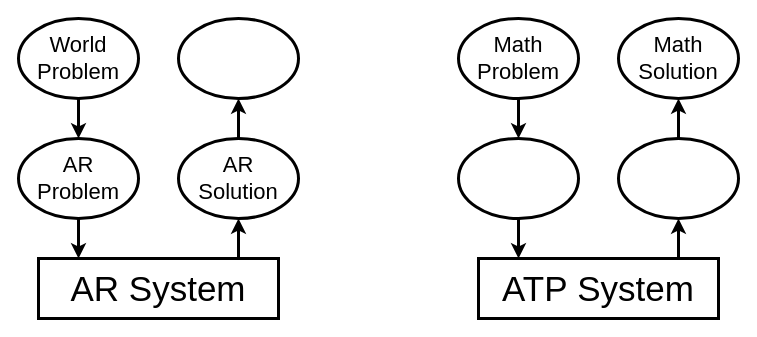
The diagram is 757 pixels wide and 337 high, and some of its shapes have lost their labels. Each missing label, with the box of its shape:
Logic Problem: (456, 136, 580, 220)
Logic Solution: (616, 136, 740, 220)
World Solution: (176, 16, 300, 100)
